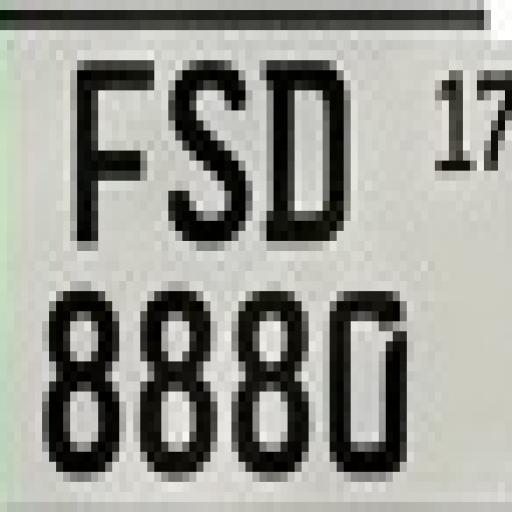0: (324, 287, 418, 479)
8: (45, 283, 129, 492), (139, 291, 223, 491), (228, 287, 313, 481)
D: (266, 61, 350, 262)
F: (74, 58, 158, 243)
S: (163, 56, 258, 264)
